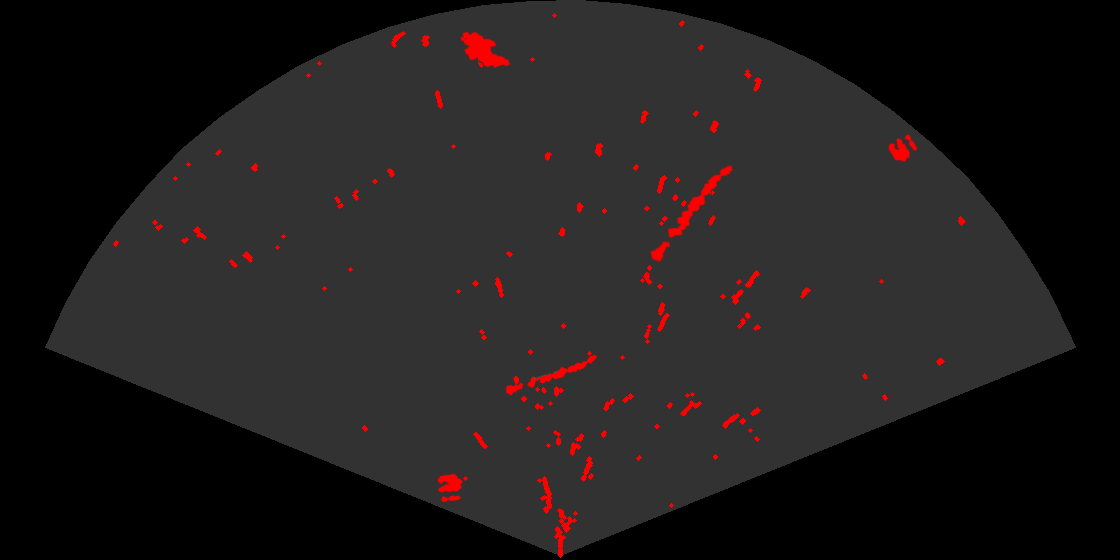AUV: (459, 30, 512, 70)
ball: (886, 133, 919, 164), (435, 472, 464, 504)
chain: (649, 164, 734, 264), (503, 353, 599, 397)
